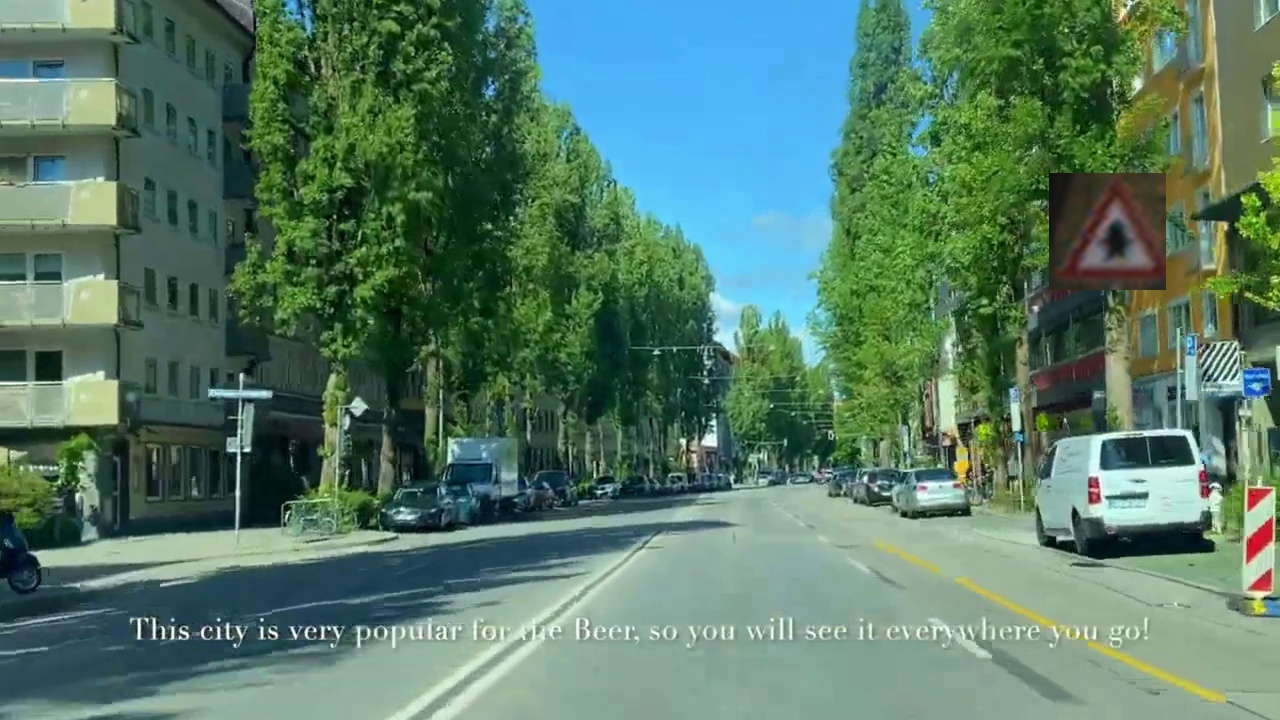Right-of-way: (1049, 173, 1166, 290)
